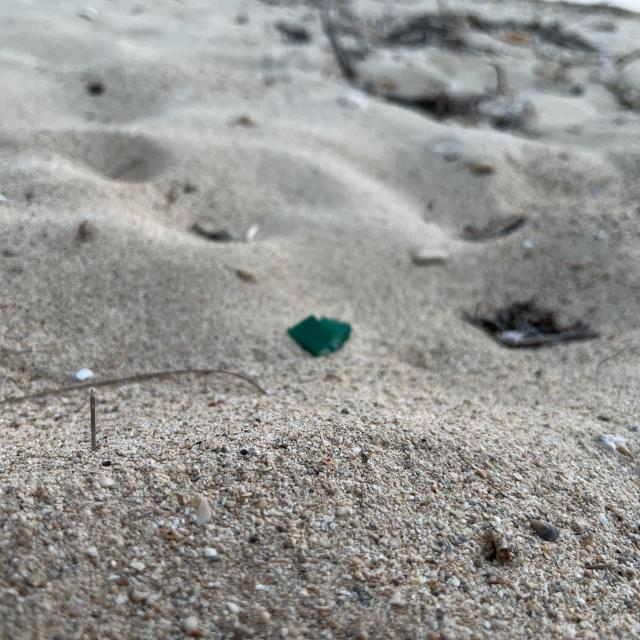seaweed: (464, 286, 606, 360)
trash: (280, 303, 361, 366)
